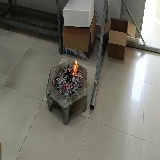fire: (73, 59, 78, 76)
